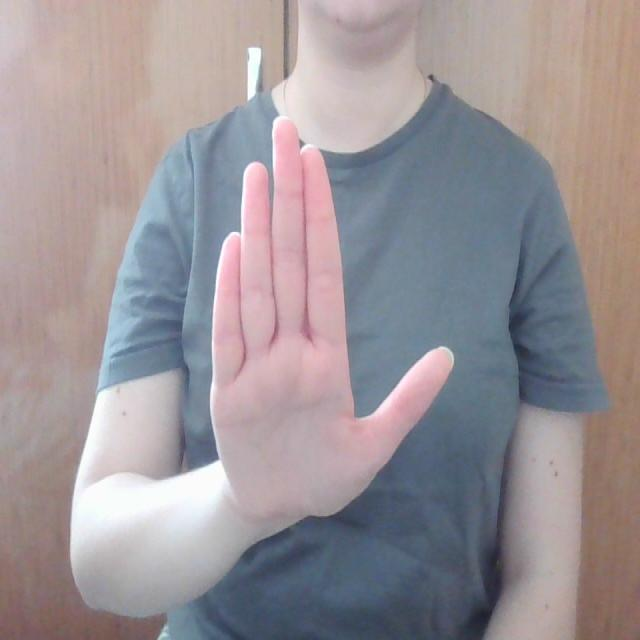Dur: (208, 107, 451, 526)
